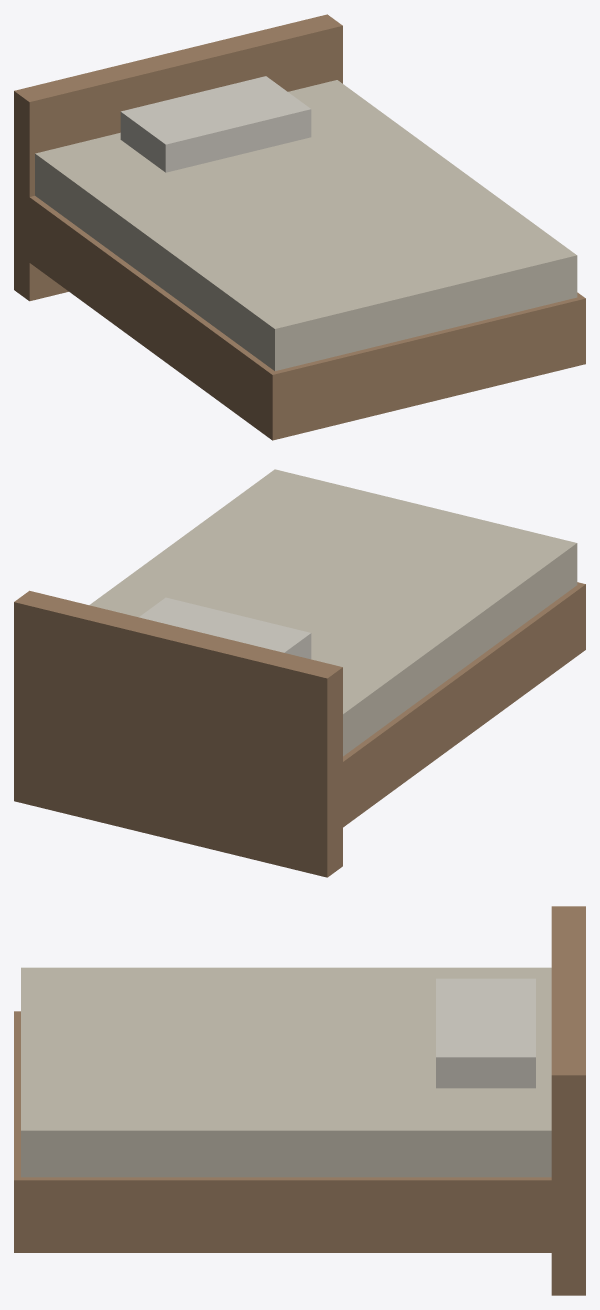
File: bed.glb
The picture shows the model from 3 angles, top to bottom: view 1: azimuth 30°, elevation 25°; view 2: azimuth 150°, elevation 25°; view 3: azimuth 270°, elevation 25°; orthographic projection. The views are drawn at different scales.
Visible parts, largest first — view 1: part_1, part_0, part_2, part_3; view 2: part_1, part_2, part_0, part_3; view 3: part_1, part_0, part_2, part_3.
Part boxes in pixels (box(x1,y1,x2,y2)): part_1: box(35, 80, 577, 370); part_0: box(14, 186, 585, 440); part_2: box(14, 14, 342, 301); part_3: box(120, 76, 311, 172); part_1: box(89, 469, 577, 756); part_2: box(14, 590, 342, 877); part_0: box(14, 582, 585, 838); part_3: box(139, 597, 311, 659); part_1: box(21, 967, 551, 1177); part_0: box(14, 1011, 585, 1252); part_2: box(551, 906, 585, 1295); part_3: box(436, 978, 535, 1088).
Bounding box in the file's own units: 1.4 × 0.85 × 2.
